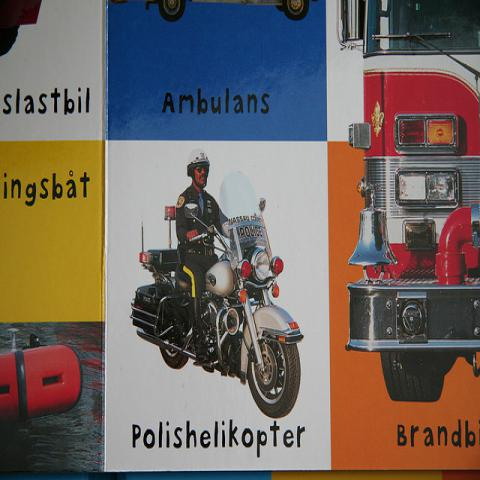motorcycle: (131, 197, 304, 416)
truck: (338, 0, 480, 406)
